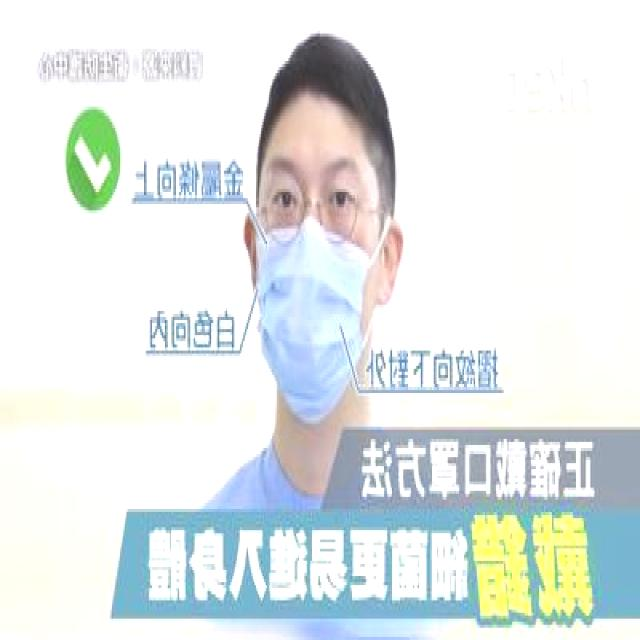face_mask: (259, 140, 381, 415)
glasses: (261, 184, 363, 254)
head_nohelmet: (261, 24, 382, 140)
